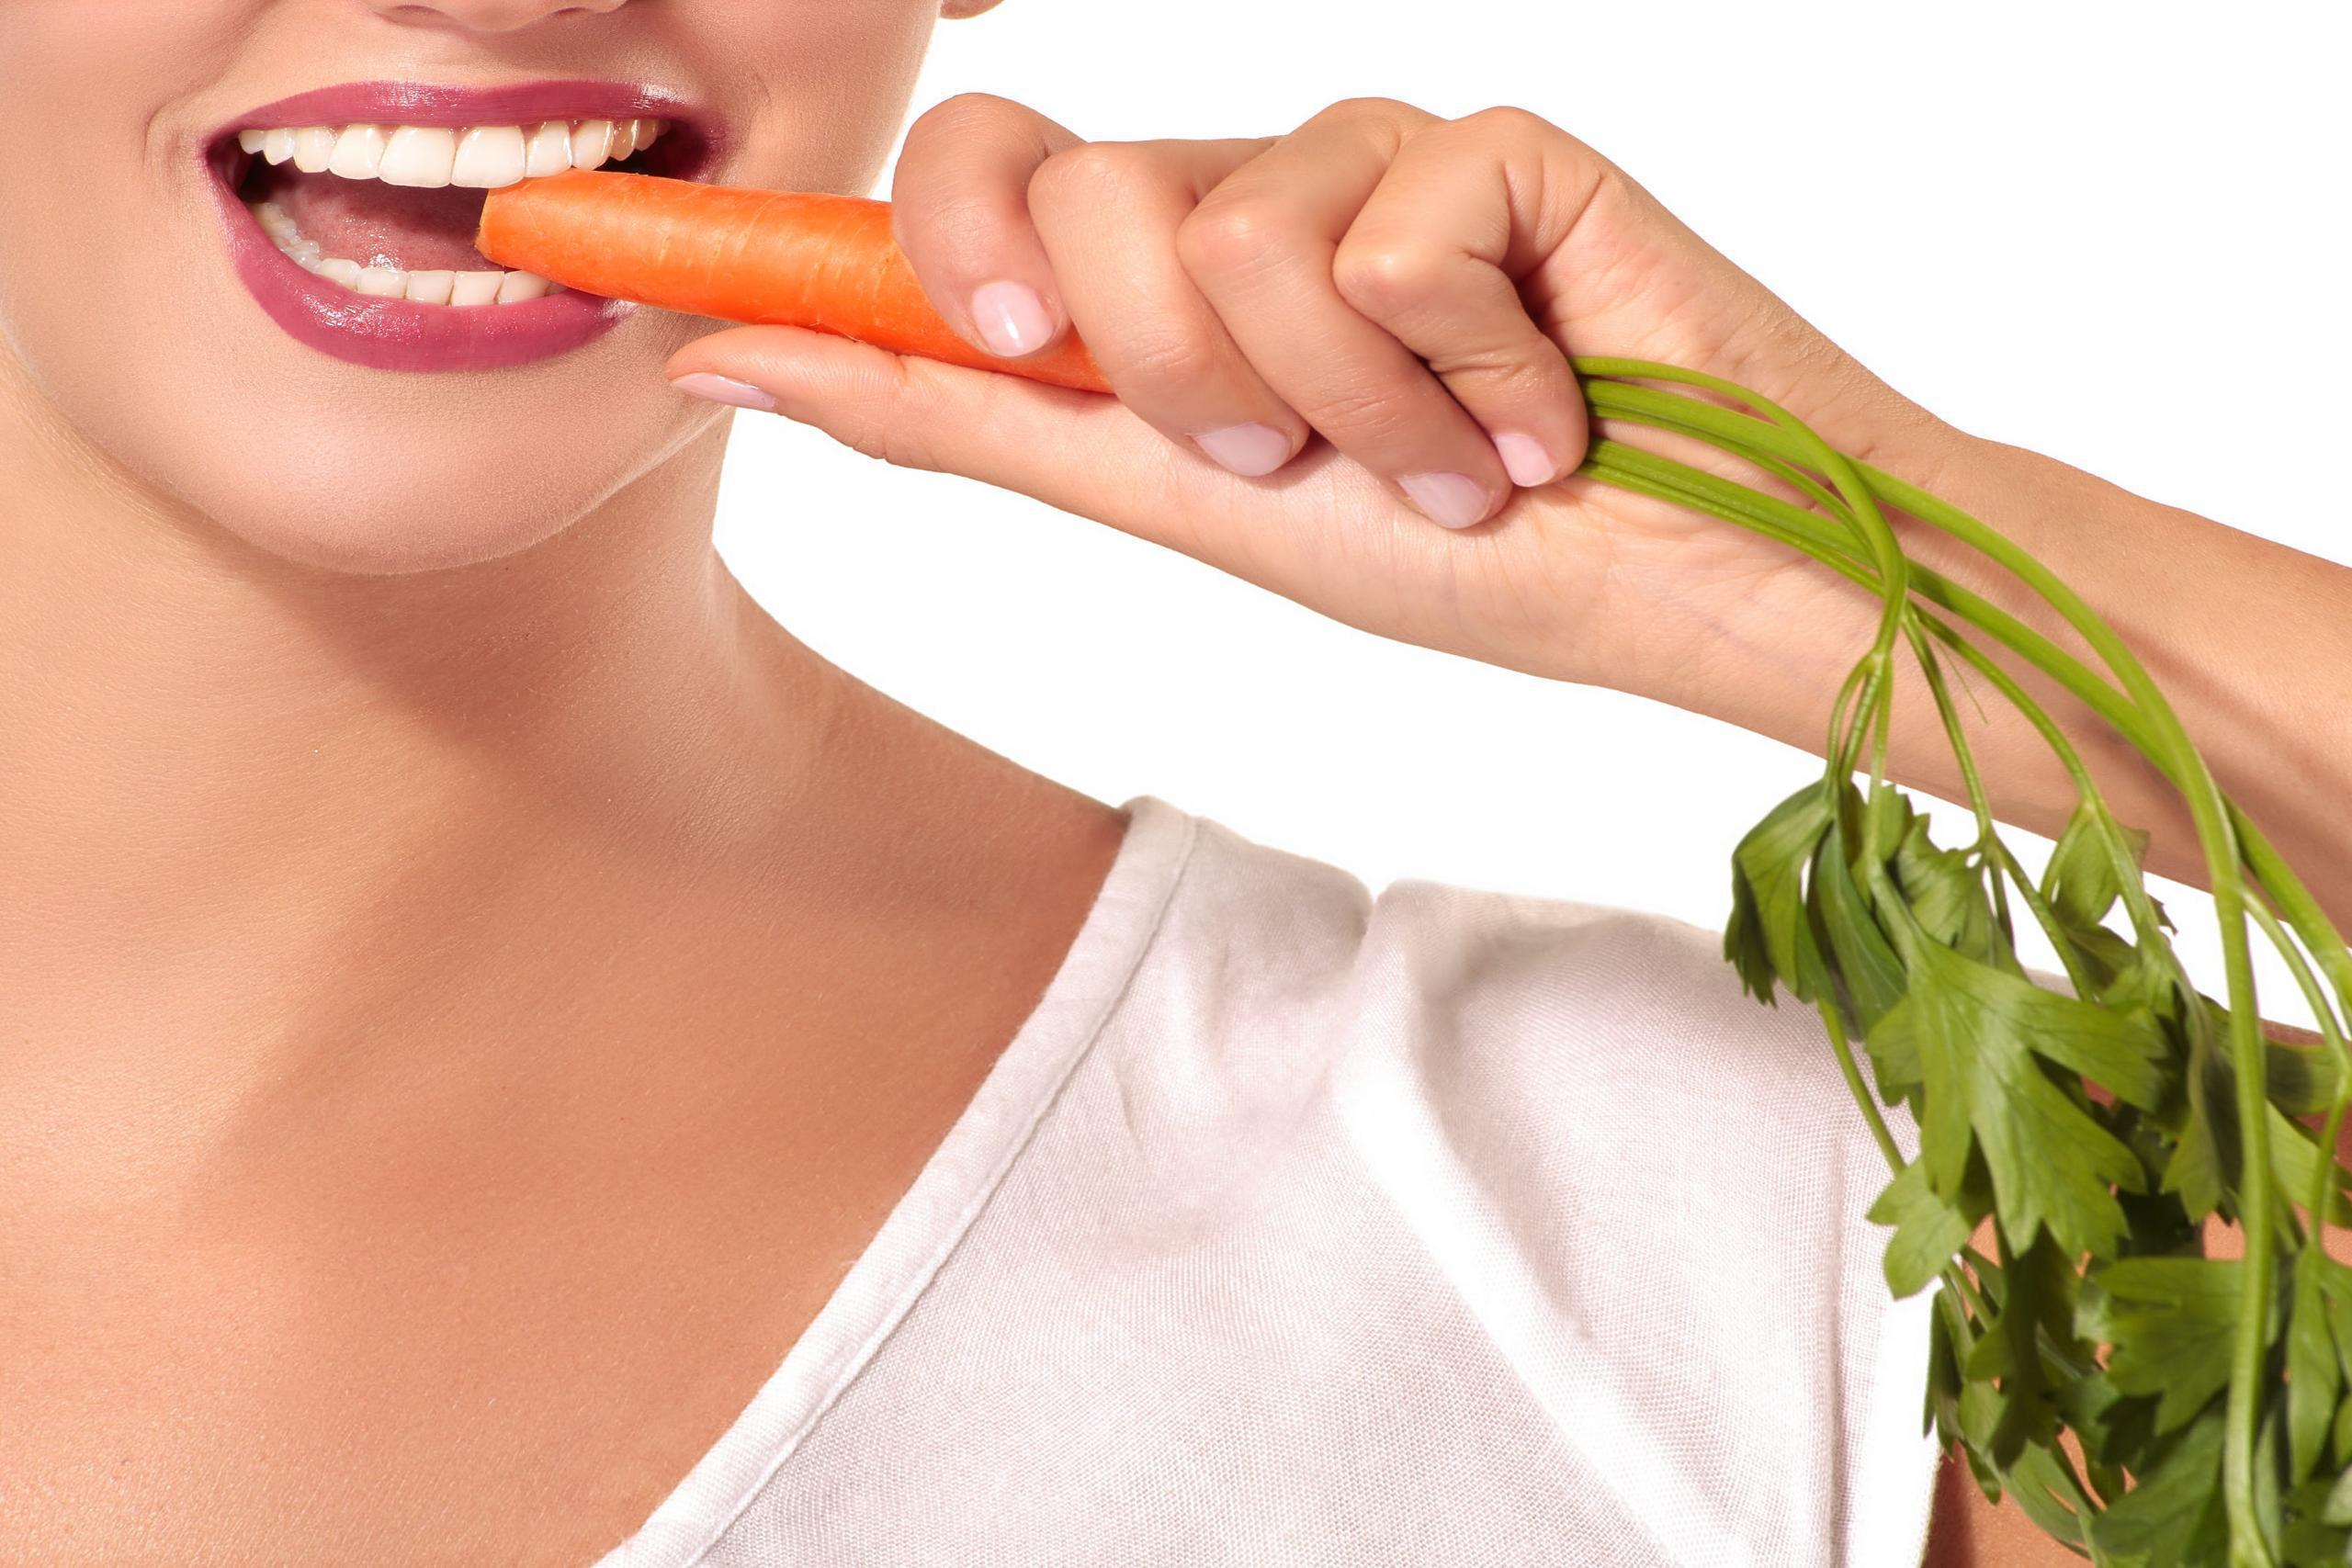carrot: (425, 152, 1001, 404)
